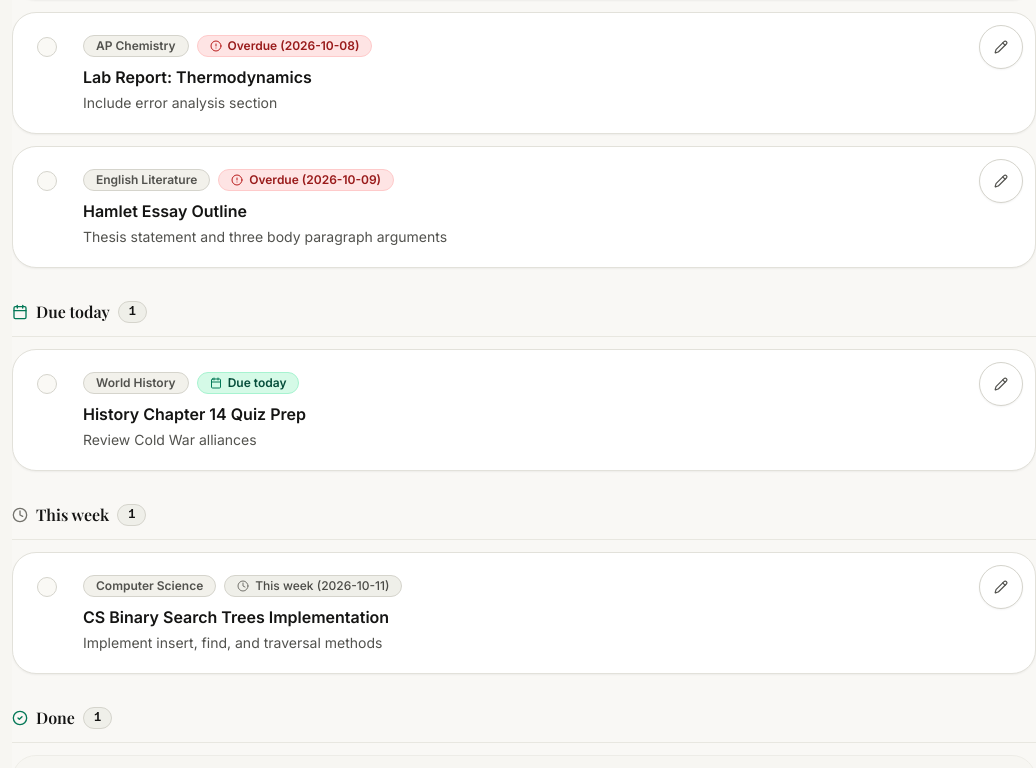
it: BoardScreen Component › toggles assignment completion moving it to Done
(page scrolled)
Check: the heading "History Chapter 14 Quiz Prep" is shown, box x1=83 y1=404 x2=306 y2=424
Click the checkbox named "mark \"history chapter 14 quiz prep\" as complete" at (47, 384), box x1=25 y1=362 x2=69 y2=406
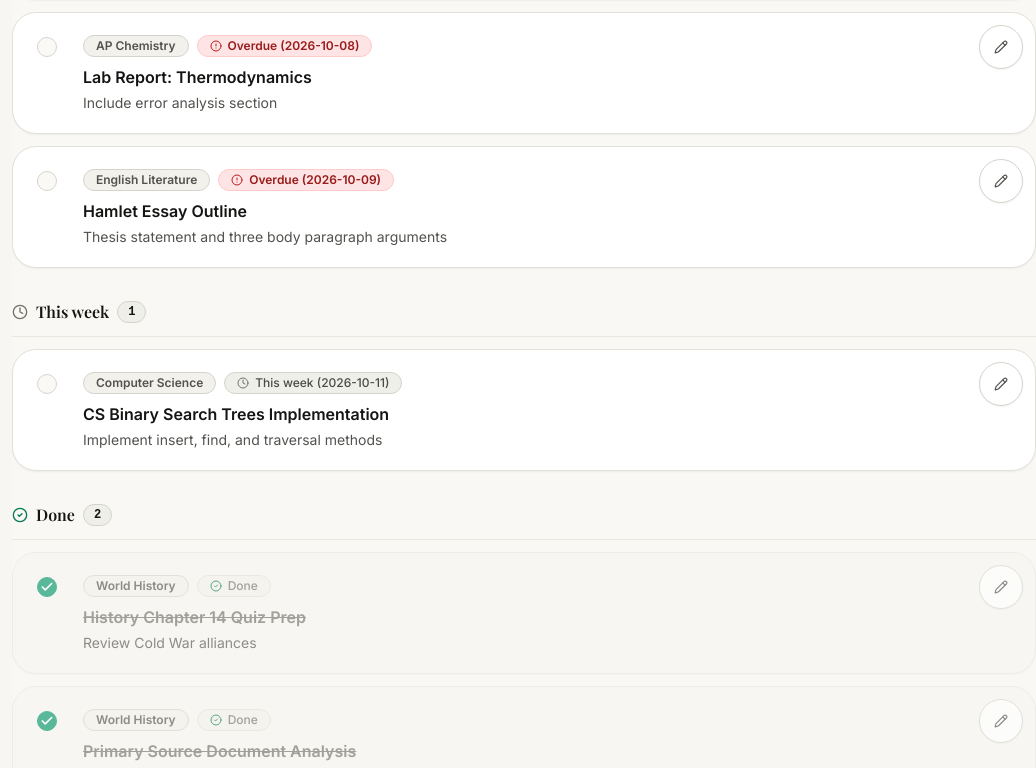
Check: the checkbox named "mark \"history chapter 14 quiz prep\" as incomplete" is shown, box x1=25 y1=565 x2=69 y2=609
